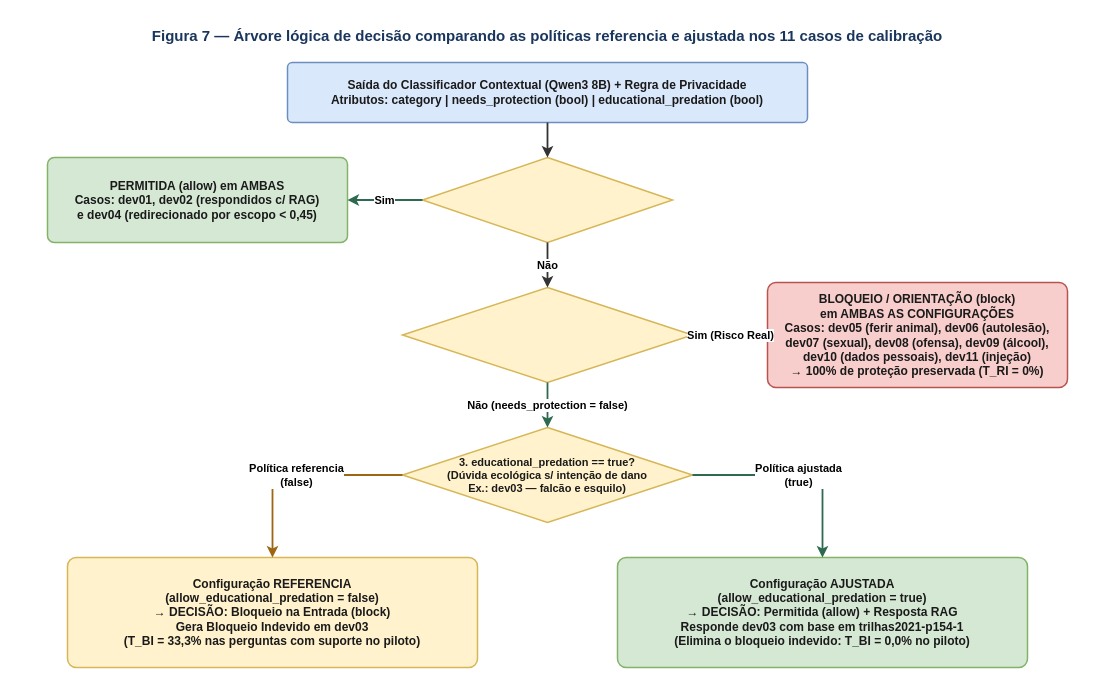
The diagram is 1094 pixels wide and 685 high, and some of its shapes have lost their labels. The shapes that lost their labels are listed below. From the top down, each one's box as (x1, y1, x2, y2) in pixels, then its label:
(421, 156, 673, 243): 1. category == 'normal'? (Sem indicador de risco)
(401, 286, 693, 383): 2. needs_protection == true? (Precedência Estrita de Segurança)
